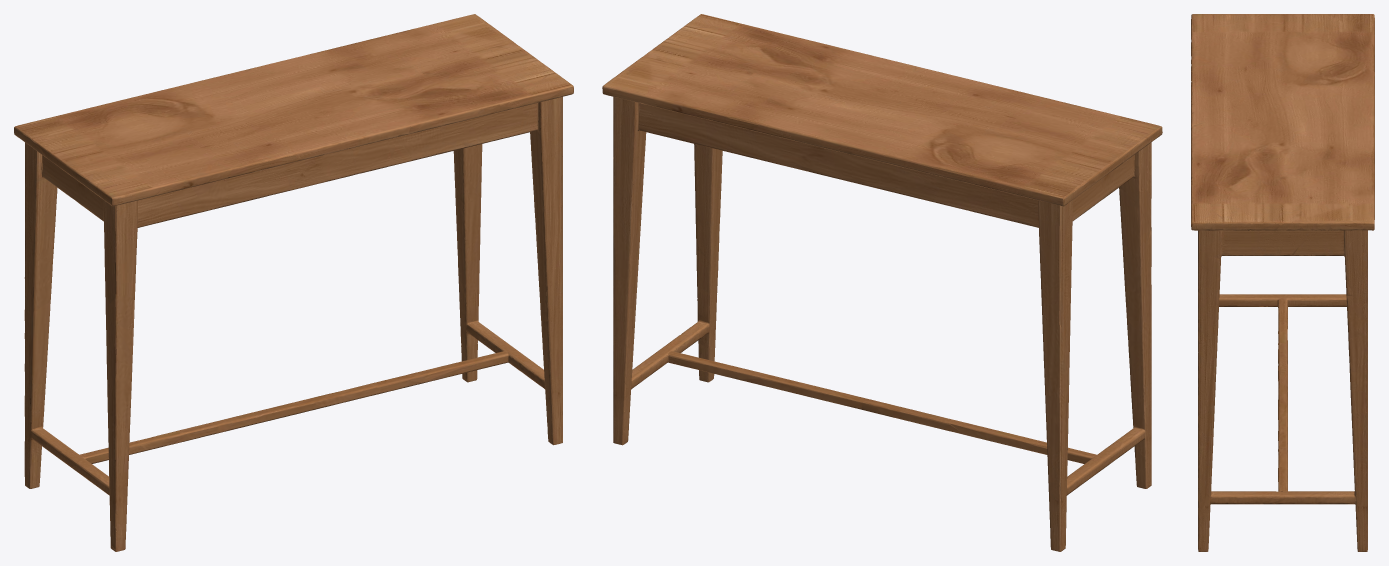
3 views of the same model, side by side, from view 1: azimuth 30°, elevation 25°; view 2: azimuth 150°, elevation 25°; view 3: azimuth 270°, elevation 25° (orthographic). The views are drawn at different scales.
Visible parts, largest first — view 1: Mesh_0; view 2: Mesh_0; view 3: Mesh_0.
Part boxes in pixels (left/top/right/bottom): Mesh_0: left=14, top=14, right=573, bottom=551; Mesh_0: left=602, top=14, right=1162, bottom=551; Mesh_0: left=1191, top=14, right=1374, bottom=551.
Size of the model in its own units: 1.04 by 0.7683 by 0.3843.
Materials: 1 (1 with a texture image).
